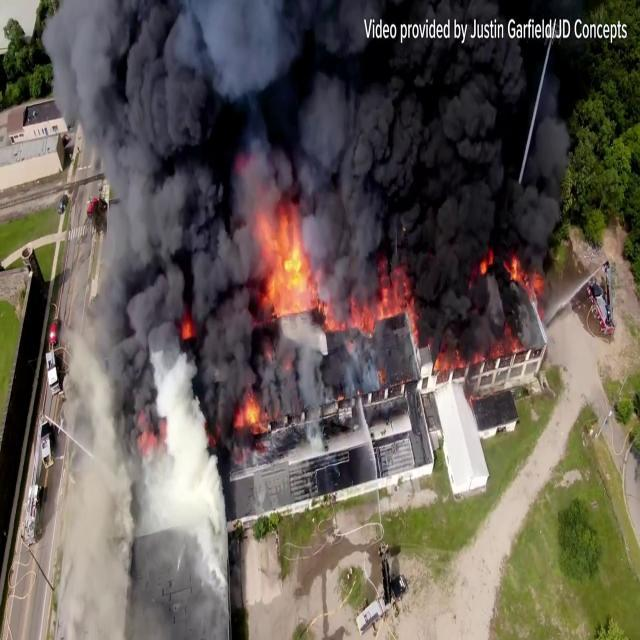Fire: (248, 196, 318, 326), (365, 266, 421, 352)
Smoke: (44, 0, 588, 386)
